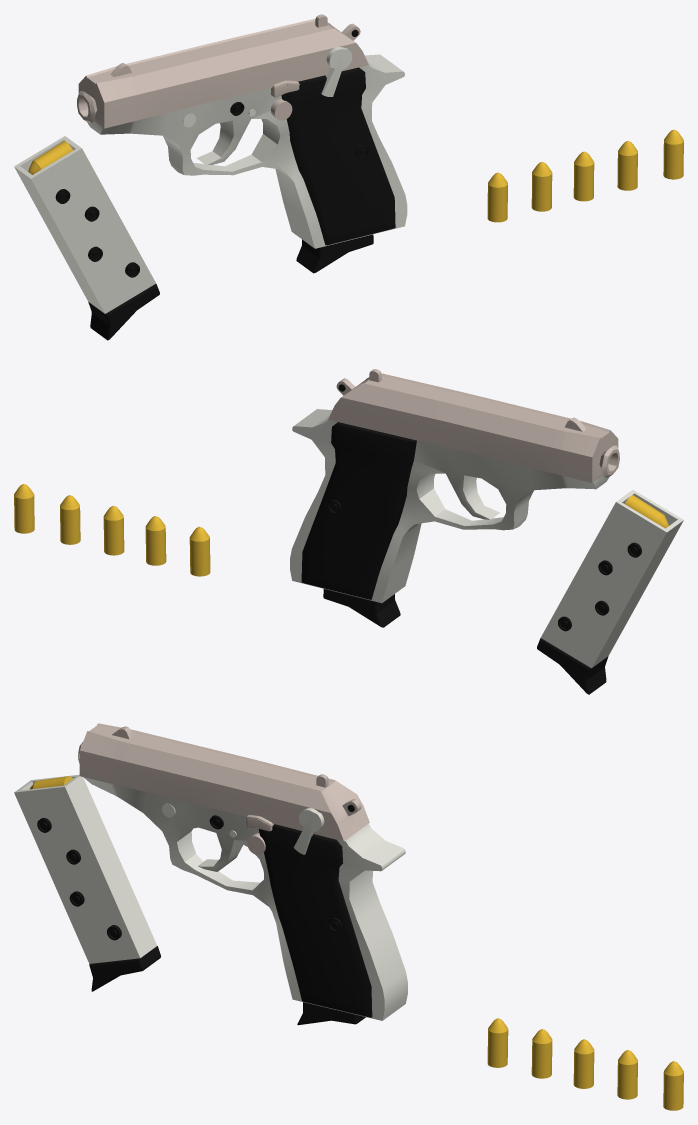
Rendered from Pistola_Bersa_LP.fbx.
3 renders of one model, top to bottom at view 1: azimuth 30°, elevation 25°; view 2: azimuth 150°, elevation 25°; view 3: azimuth 330°, elevation 25°, orthographic.
Parts seen in each view (by area): view 1: Pistola, bala, bala.005, bala.004, bala.001, bala.002, bala.003; view 2: Pistola, bala, bala.005, bala.004, bala.001, bala.003, bala.002; view 3: Pistola, bala, bala.005, bala.004, bala.002, bala.003, bala.001.
Boxes of the visible parts, x1=… form: Pistola: x1=77, y1=14, x2=407, y2=273; bala: x1=14, y1=136, x2=159, y2=340; bala.005: x1=663, y1=129, x2=683, y2=179; bala.004: x1=617, y1=141, x2=637, y2=190; bala.001: x1=487, y1=172, x2=507, y2=222; bala.002: x1=531, y1=162, x2=552, y2=211; bala.003: x1=573, y1=151, x2=594, y2=201; Pistola: x1=290, y1=369, x2=619, y2=627; bala: x1=537, y1=490, x2=683, y2=694; bala.005: x1=14, y1=484, x2=34, y2=533; bala.004: x1=60, y1=495, x2=80, y2=544; bala.001: x1=189, y1=526, x2=210, y2=576; bala.003: x1=103, y1=505, x2=124, y2=555; bala.002: x1=145, y1=516, x2=166, y2=565; Pistola: x1=78, y1=723, x2=407, y2=1025; bala: x1=14, y1=774, x2=160, y2=991; bala.005: x1=663, y1=1061, x2=683, y2=1110; bala.004: x1=617, y1=1050, x2=637, y2=1099; bala.002: x1=531, y1=1029, x2=552, y2=1078; bala.003: x1=573, y1=1039, x2=594, y2=1088; bala.001: x1=487, y1=1018, x2=508, y2=1067.
Bounding box in the file's own units: 53.08 × 20.3 × 4.32.
